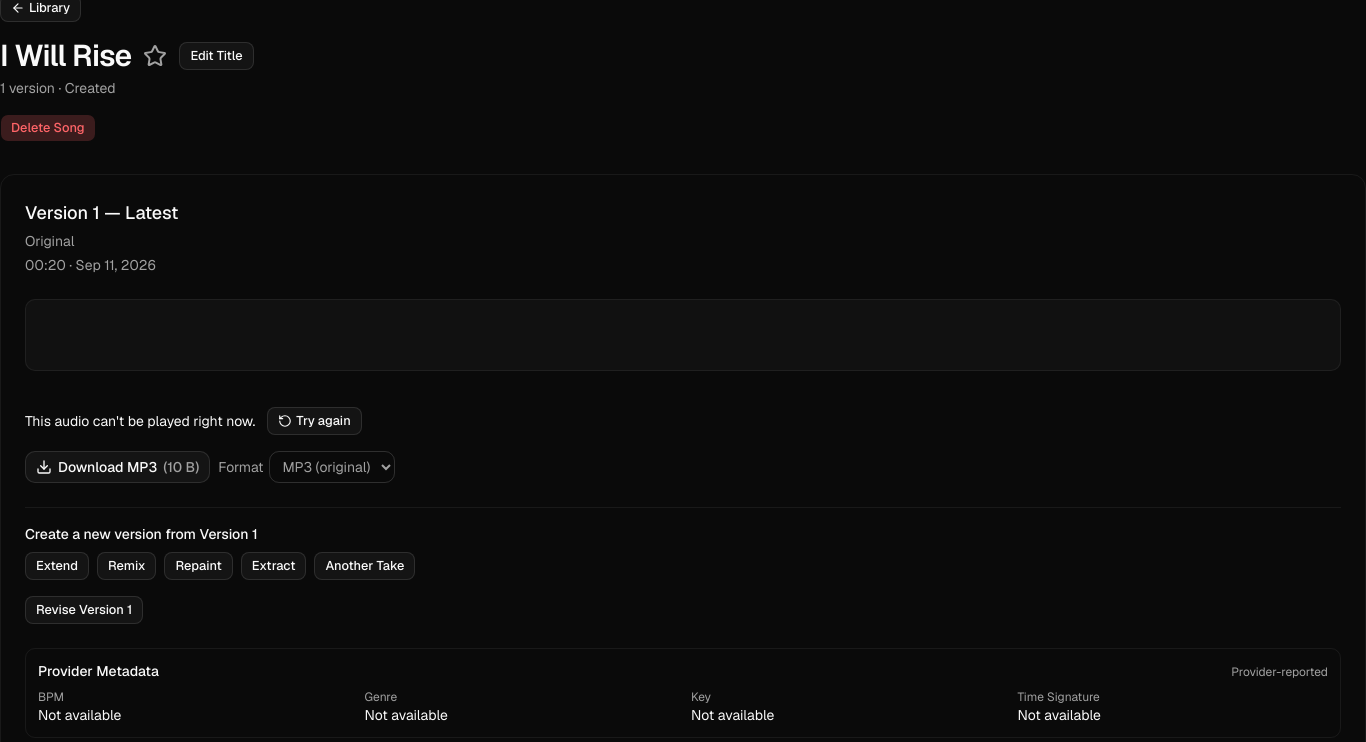
Version actions › Repaint sends the region, description and optional lyrics
The image size is (1366, 742).
Click the button "Repaint". click: point(199, 566)
box: [164,552,233,580]
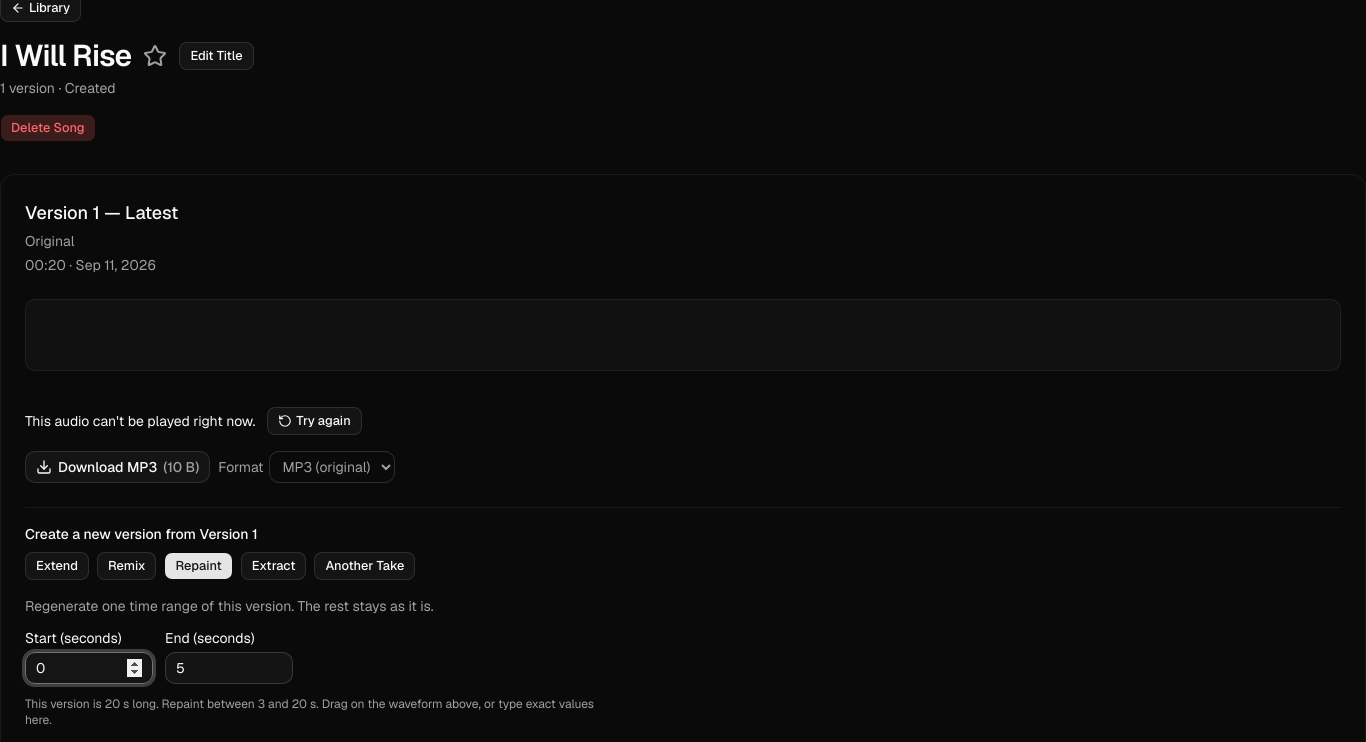
Replace the text in the number field labelled "Start (seconds)" with "4". click: point(89, 668)
box: [25,652,153,684]
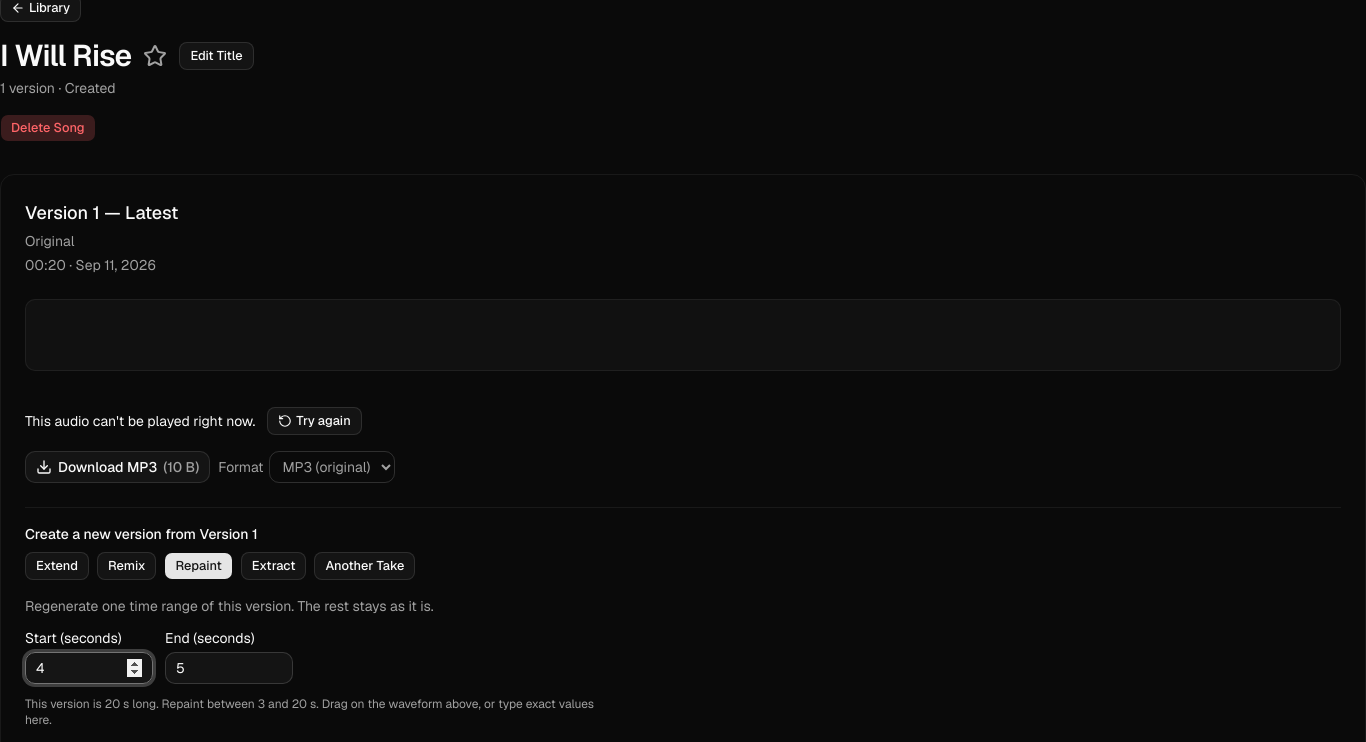
Replace the text in the number field labelled "End (seconds)" with "9.5". click: point(229, 668)
box: [165,652,293,684]
(page scrolled)
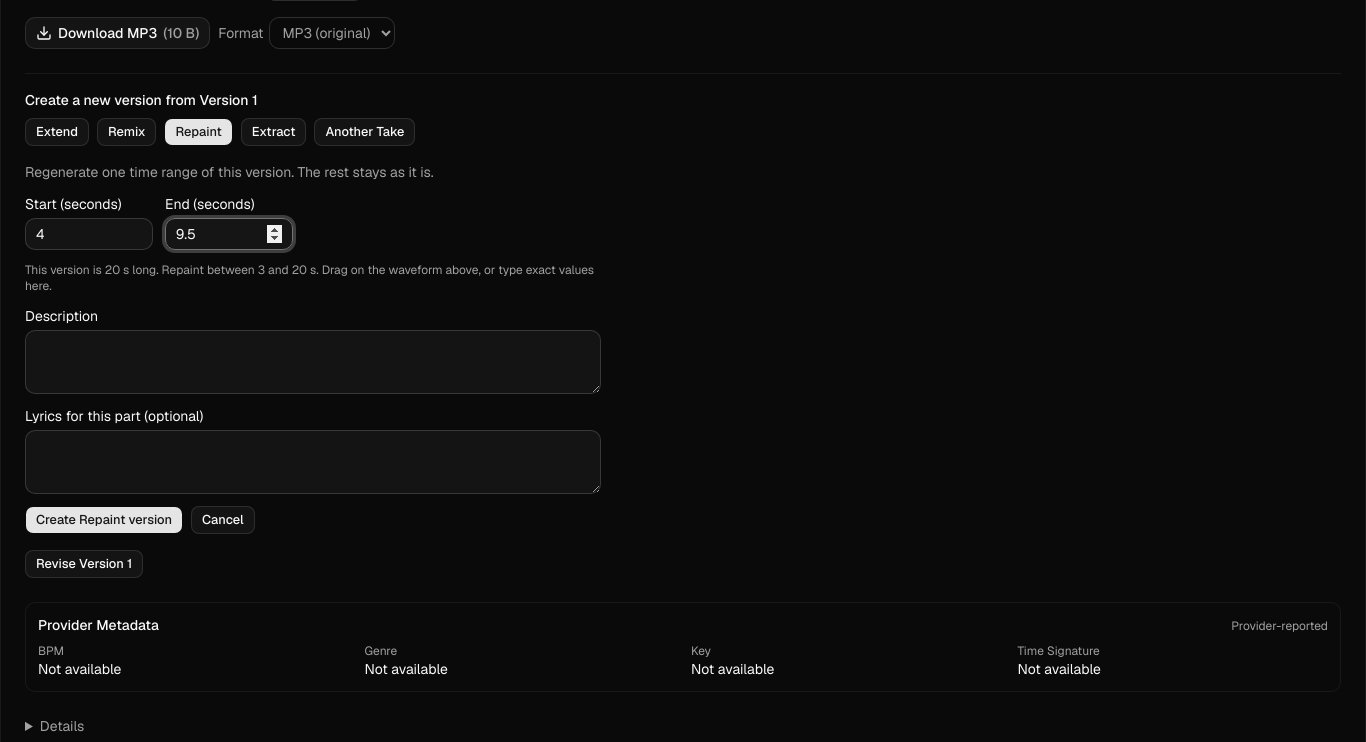
Type "sudden drums" into the text box labelled "Description". click: point(313, 362)
box: [25,330,601,394]
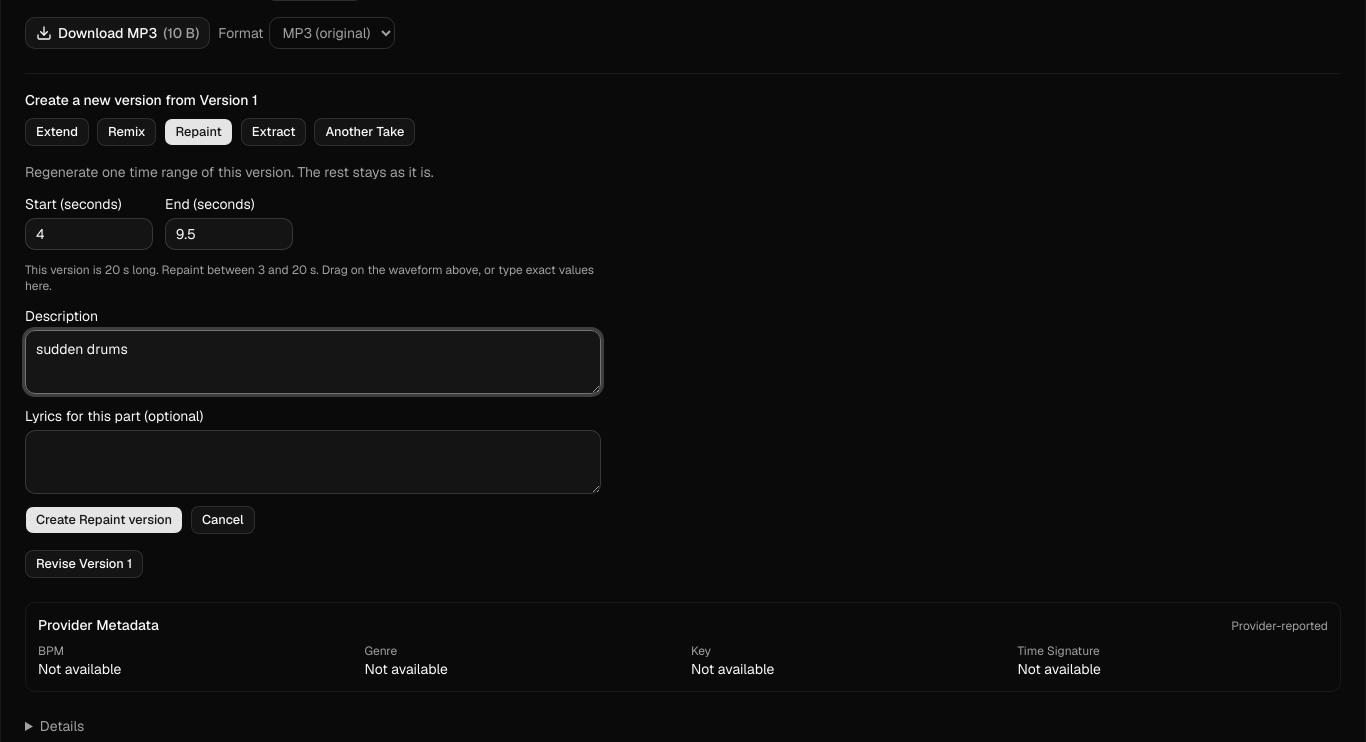
Type "la la" into the text box labelled "Lyrics for this part (optional)". click: point(313, 462)
box: [25,430,601,494]
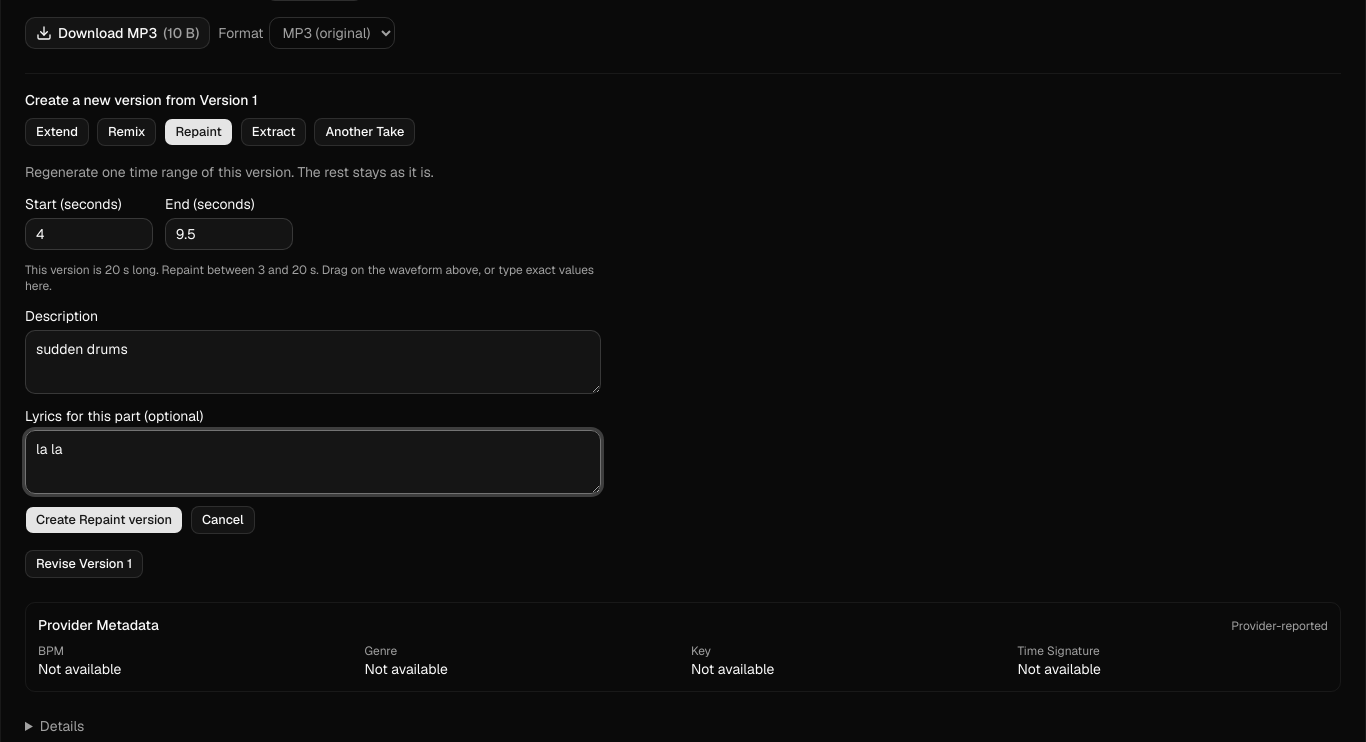
Click the button "Create Repaint version". click: point(104, 520)
box: [25,506,183,534]
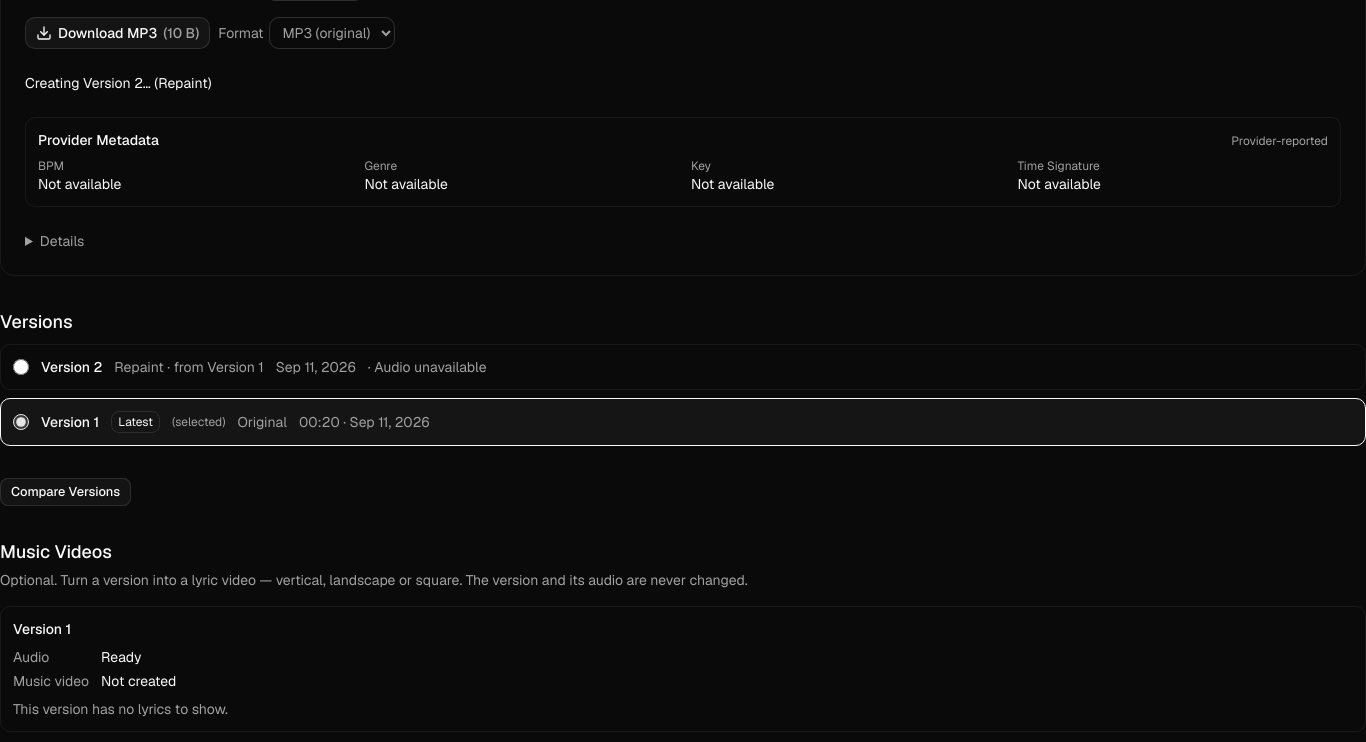
Now the message "Creating Version 2… (Repaint)" is shown, box [25,74,212,92]
